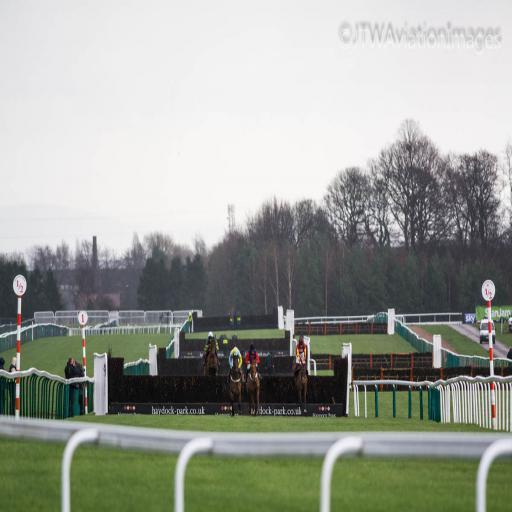horse: (246, 360, 262, 418), (295, 356, 310, 416), (230, 350, 244, 414), (206, 333, 219, 380)
